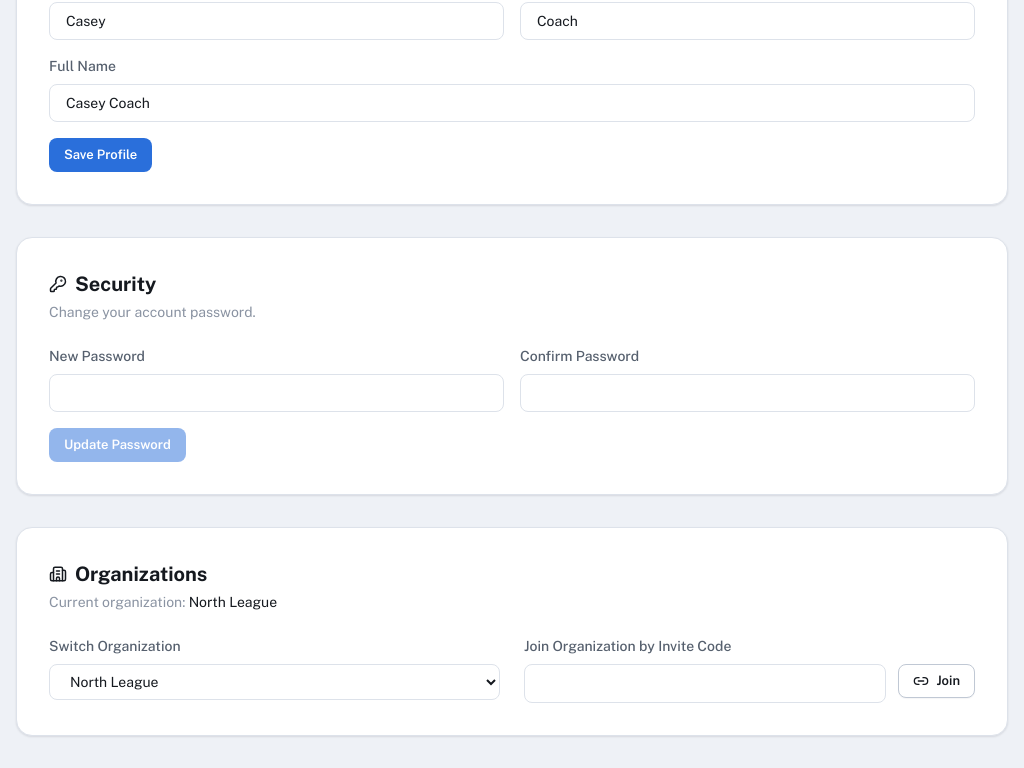
Scenario: AccountSettingsPage › redeems invite codes and refreshes organizations without a page reload
(page scrolled)
Type "  JOIN-123  " into the field labelled "Join Organization by Invite Code" at [705, 684], box [524,664,886,703]
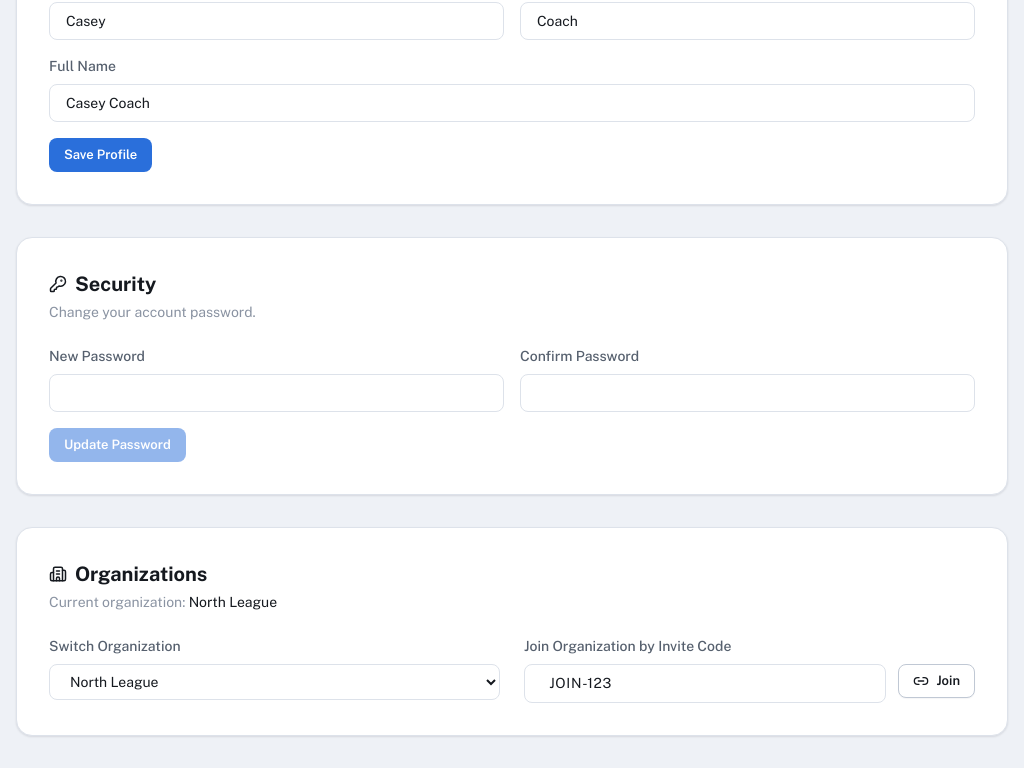
Click the button "Join" at [937, 682], box [898,664,975,698]
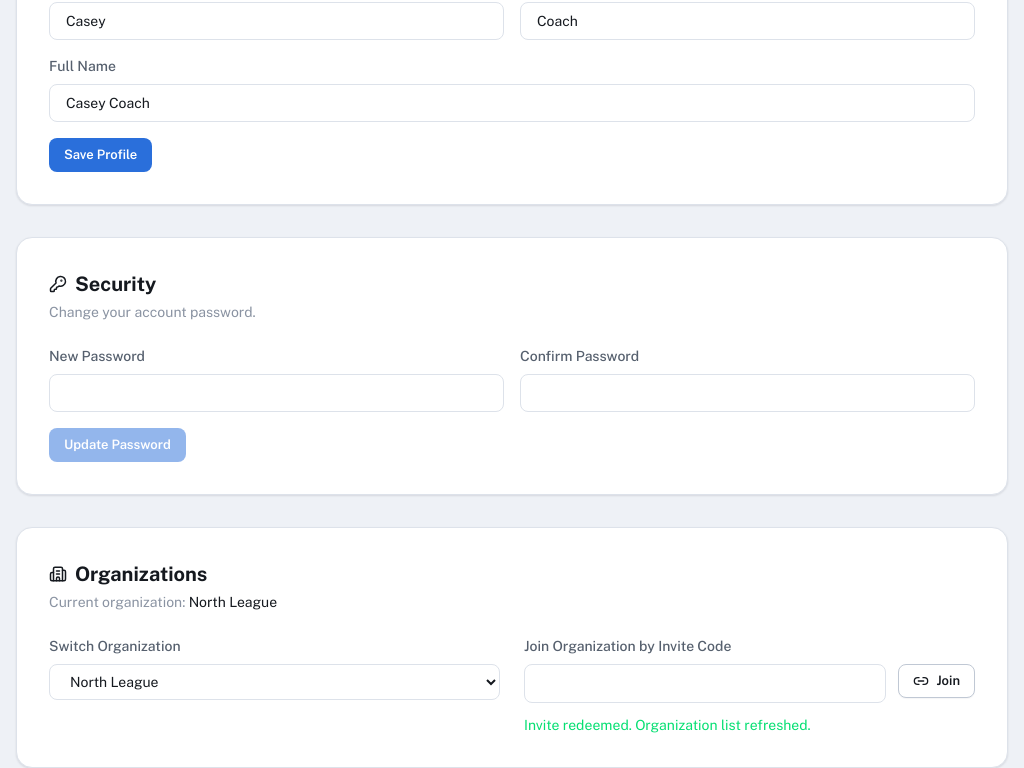
Check: the message reads "Invite redeemed. Organization list refreshed.", box [524,717,811,733]
Check: the field labelled "Join Organization by Invite Code" is empty, box [524,664,886,703]
